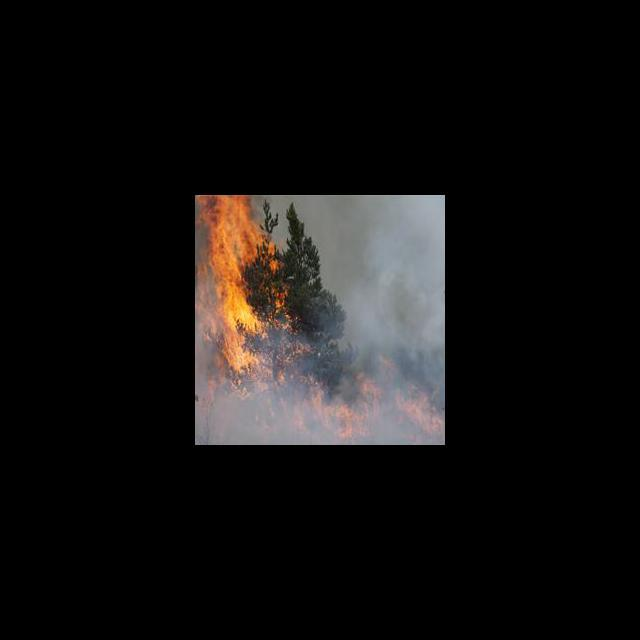Fire: (196, 371, 445, 444), (196, 195, 284, 389)
Smoke: (334, 198, 444, 354)
